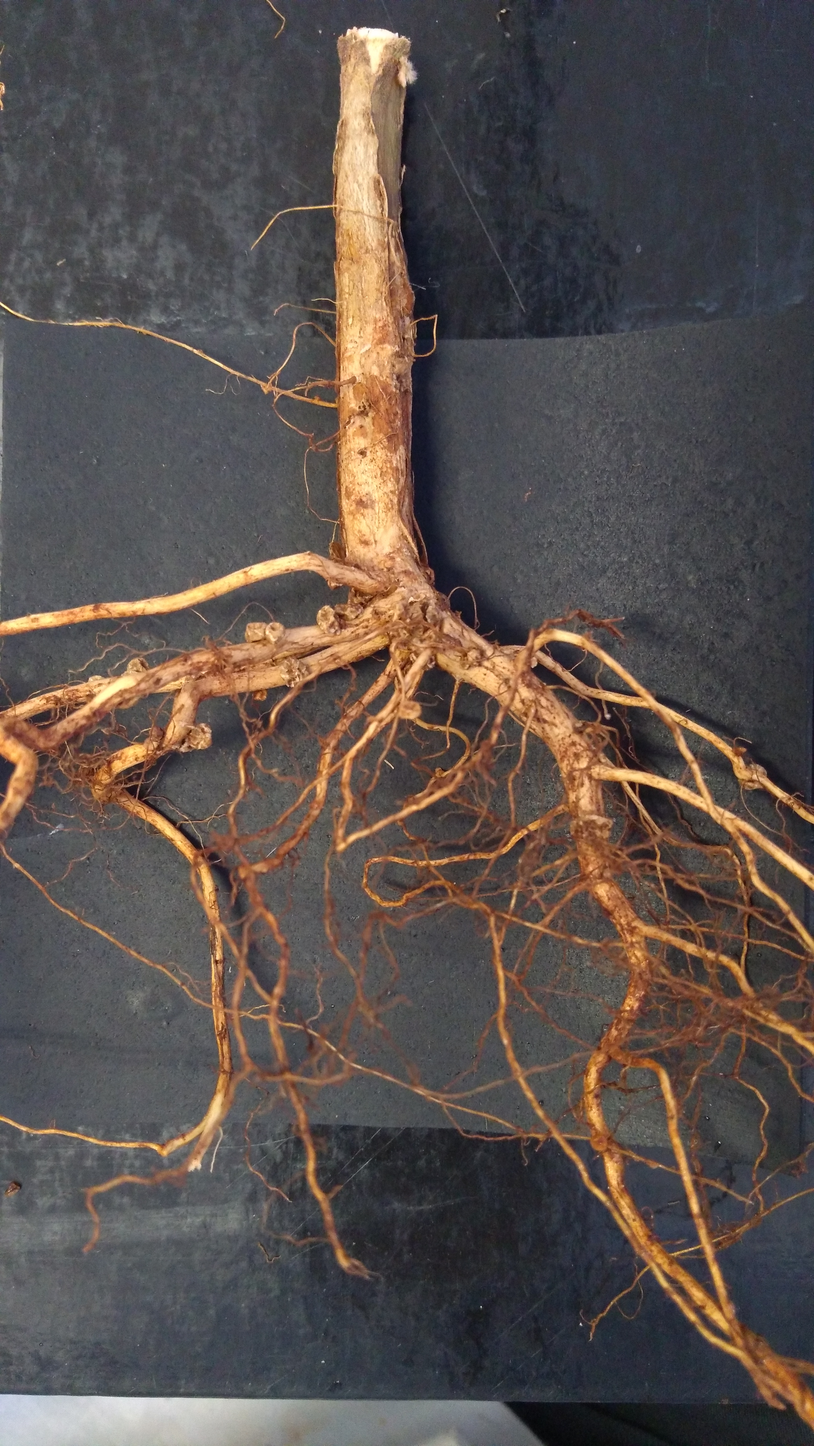nodule: (87, 674, 140, 709), (177, 719, 216, 761), (566, 814, 614, 843), (735, 760, 772, 796), (313, 601, 344, 642), (324, 539, 347, 590), (280, 654, 310, 687), (241, 617, 271, 647), (261, 618, 292, 646), (374, 600, 405, 625), (331, 600, 365, 622), (396, 698, 424, 722), (587, 1130, 612, 1153), (460, 646, 482, 669), (407, 599, 426, 625), (124, 657, 152, 672), (424, 604, 442, 626), (251, 687, 272, 704), (423, 653, 438, 672), (143, 735, 160, 749), (149, 726, 165, 740), (433, 765, 447, 778), (409, 649, 418, 663)
